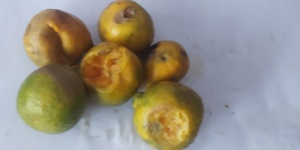BAD: (125, 79, 203, 150), (11, 65, 83, 135), (74, 43, 142, 106), (24, 5, 92, 65), (133, 35, 191, 90), (101, 1, 156, 55)
